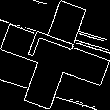L_E: (26, 32, 84, 78)
